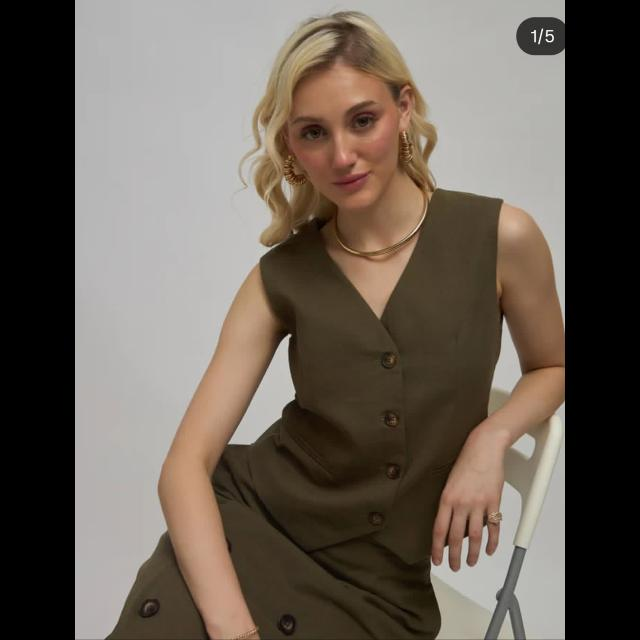dress: (122, 214, 494, 640)
